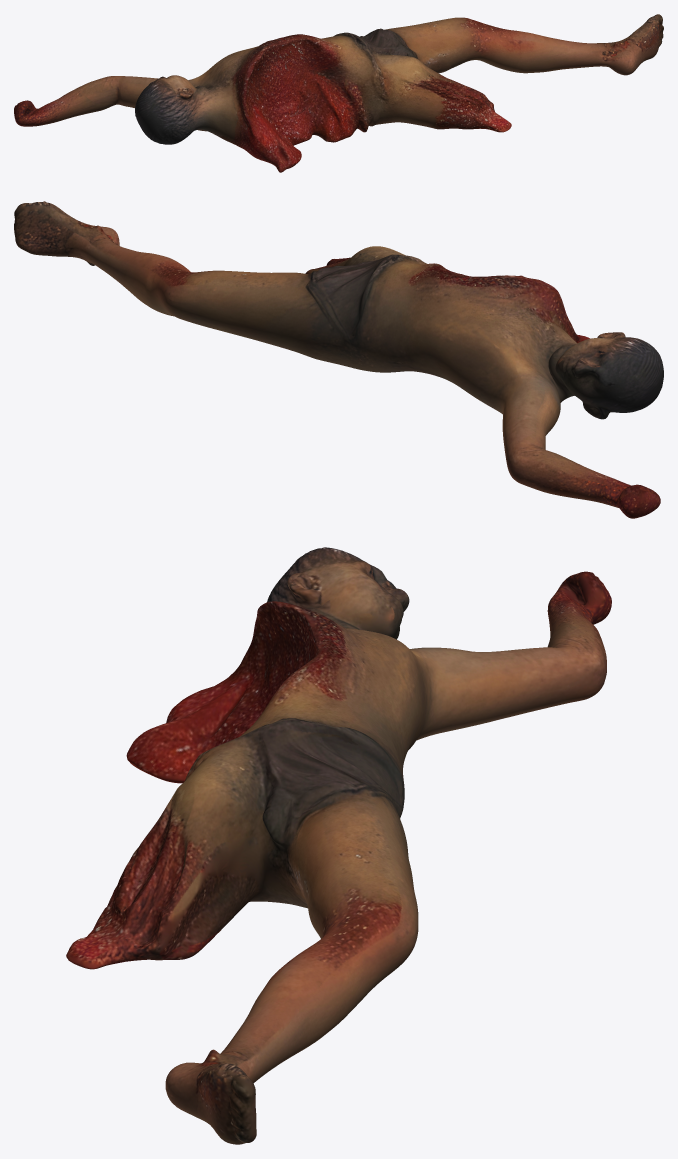
File: deepwound.glb
3 views of the same model, one above another, from view 1: azimuth 30°, elevation 25°; view 2: azimuth 150°, elevation 25°; view 3: azimuth 270°, elevation 25° (orthographic). The views are drawn at different scales.
Parts seen in each view (by area): view 1: node_0; view 2: node_0; view 3: node_0.
Part boxes in pixels (x1,y1,x2,y2): node_0: [14, 14, 663, 172]; node_0: [14, 201, 663, 518]; node_0: [66, 547, 611, 1144].
Size of the model in its own units: 1.12 by 0.1687 by 0.4692.
Materials: 1 (1 with a texture image).
